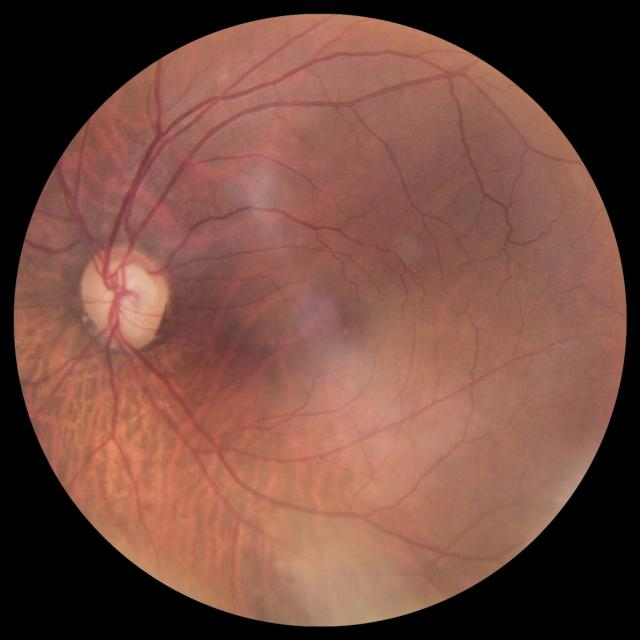OC: (90, 260, 159, 330)
OD: (78, 242, 166, 346)
